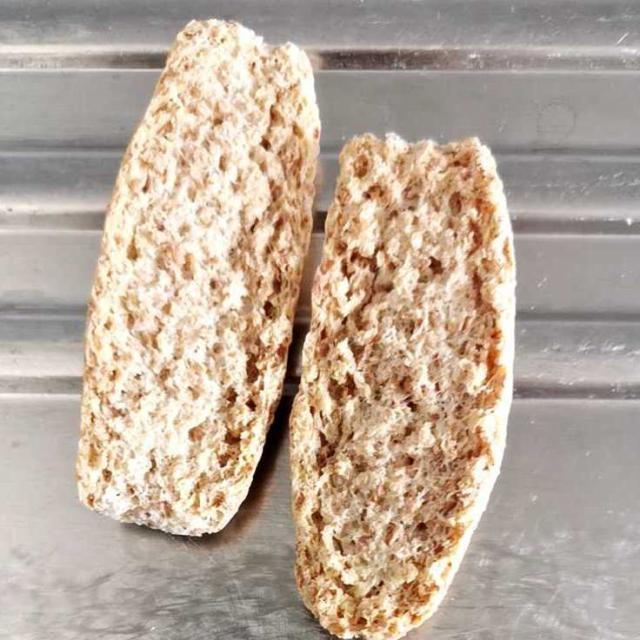rusk-wholemeal: (79, 29, 526, 621)
